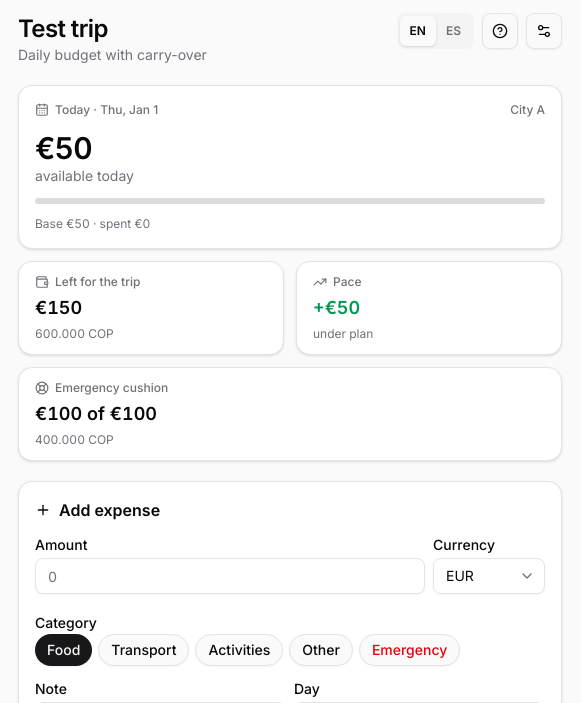
Test: adding expenses › sends emergency expenses to the cushion
Type "30" into the number field labelled "Amount" at (230, 576), box [35,558,425,594]
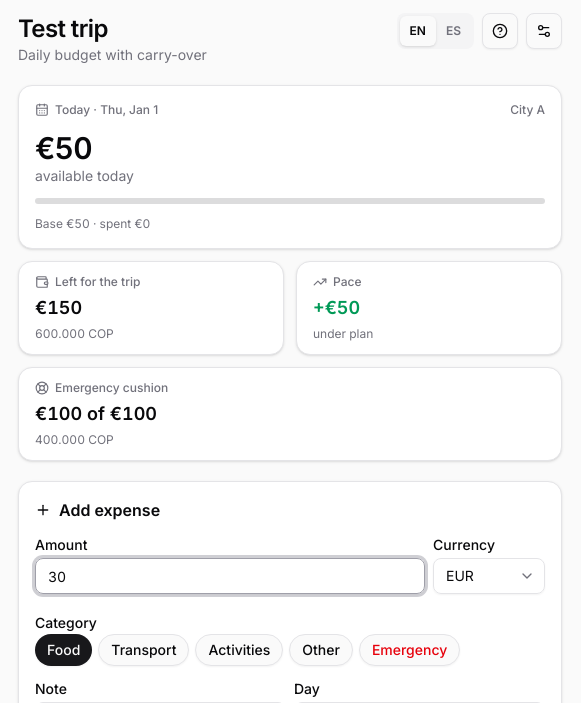
Click the button "Emergency" at (410, 650), box [359,634,460,666]
(page scrolled)
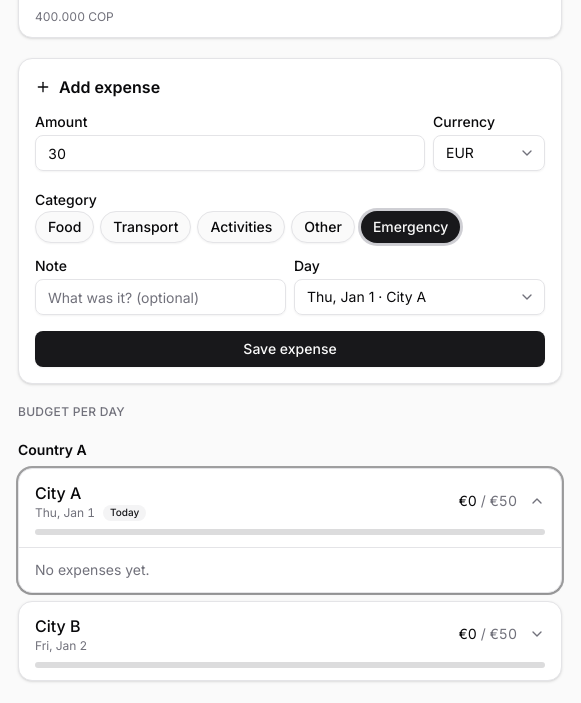
Click the button "Save expense" at (290, 349), box [35,331,545,367]
(page scrolled)
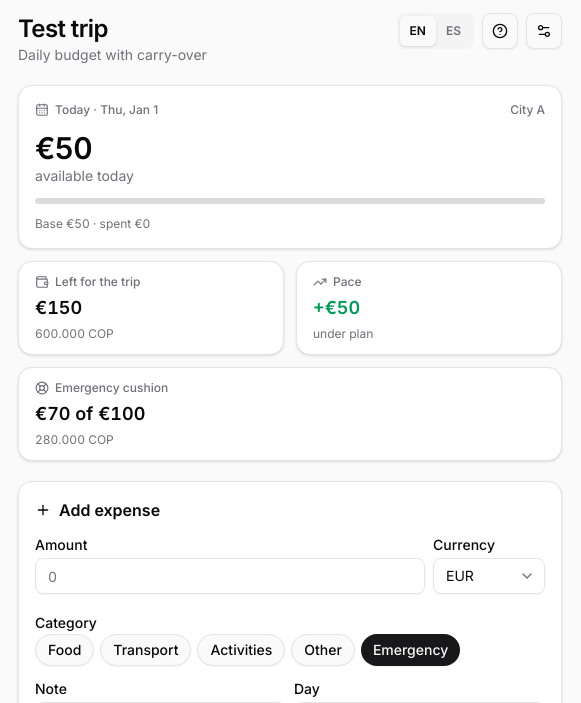
Expected: the text with test id "available-today" reads "€50", [35,130,92,166]
Result: the text with test id "cushion" reads "€70 of €100" at [35,403,145,424]
